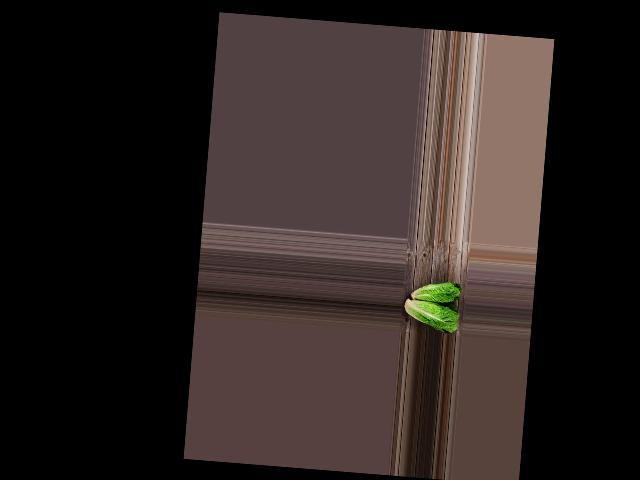lettuce: (400, 298, 461, 335)
